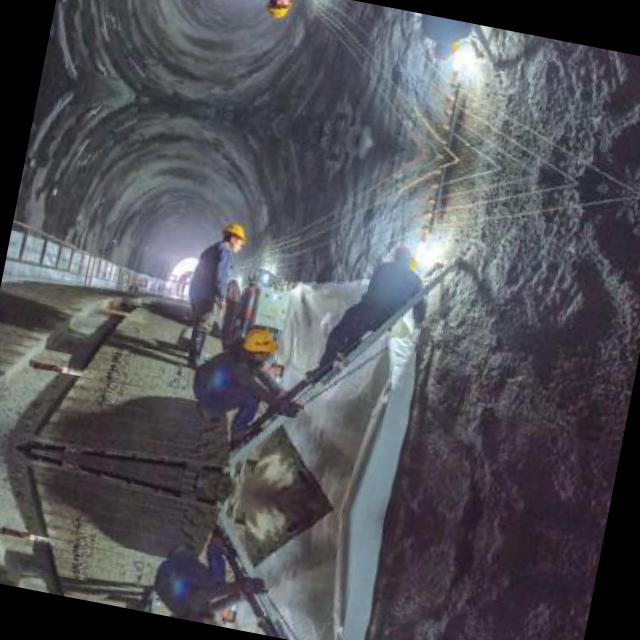helmet: (237, 321, 283, 368), (219, 216, 253, 256), (388, 238, 418, 270), (428, 34, 458, 66), (264, 0, 299, 24), (187, 608, 228, 626)
